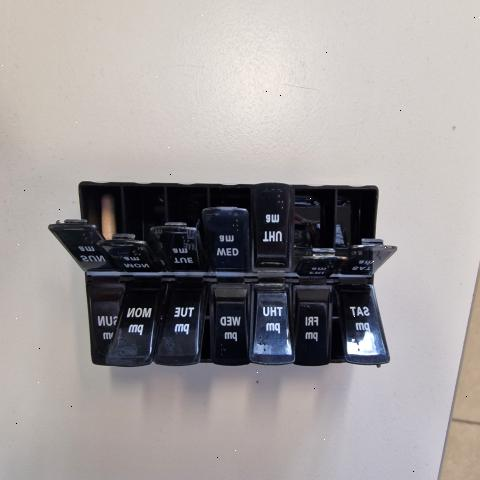Open: (49, 180, 123, 266), (295, 187, 347, 271), (121, 183, 165, 271), (340, 184, 396, 252), (168, 186, 210, 259), (210, 185, 257, 239), (200, 296, 209, 360)
